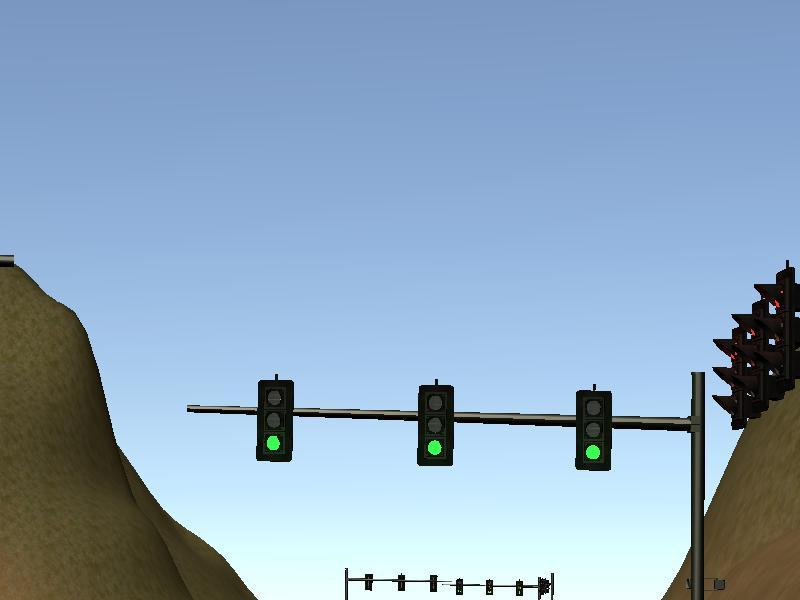Green: (420, 388, 453, 465), (579, 391, 611, 469), (259, 381, 290, 460)
